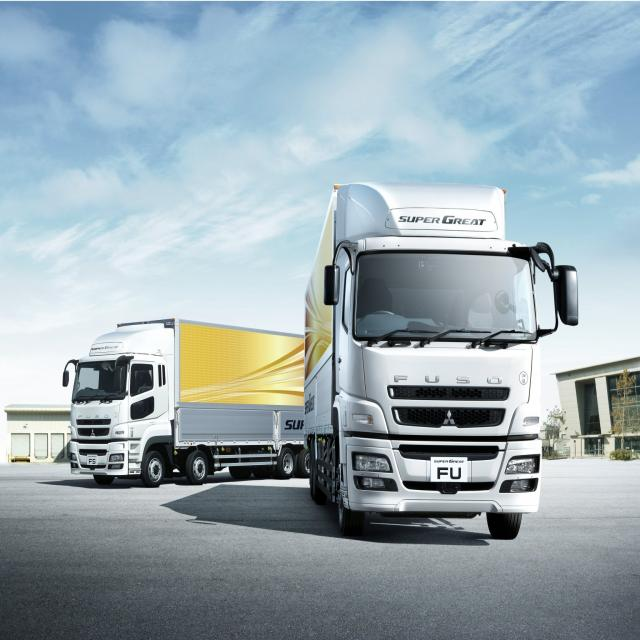truck: (306, 177, 578, 530), (61, 317, 308, 485)
